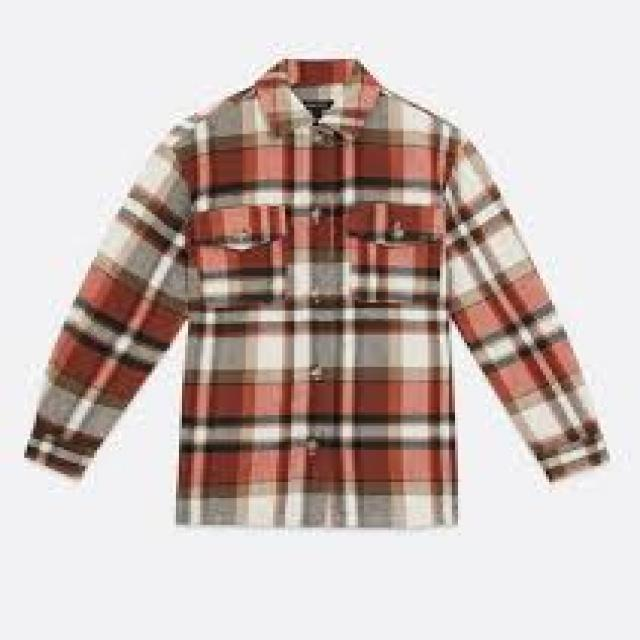plaid: (39, 62, 610, 534)
